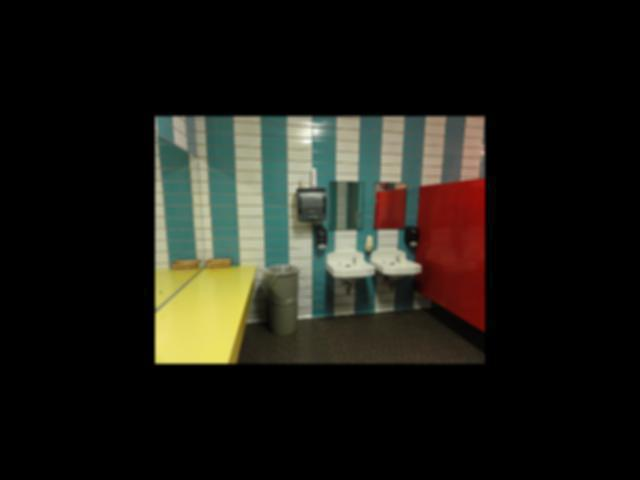Bote de Basura: (262, 263, 300, 337)
Lavamanos: (373, 248, 423, 277), (328, 252, 374, 279)
